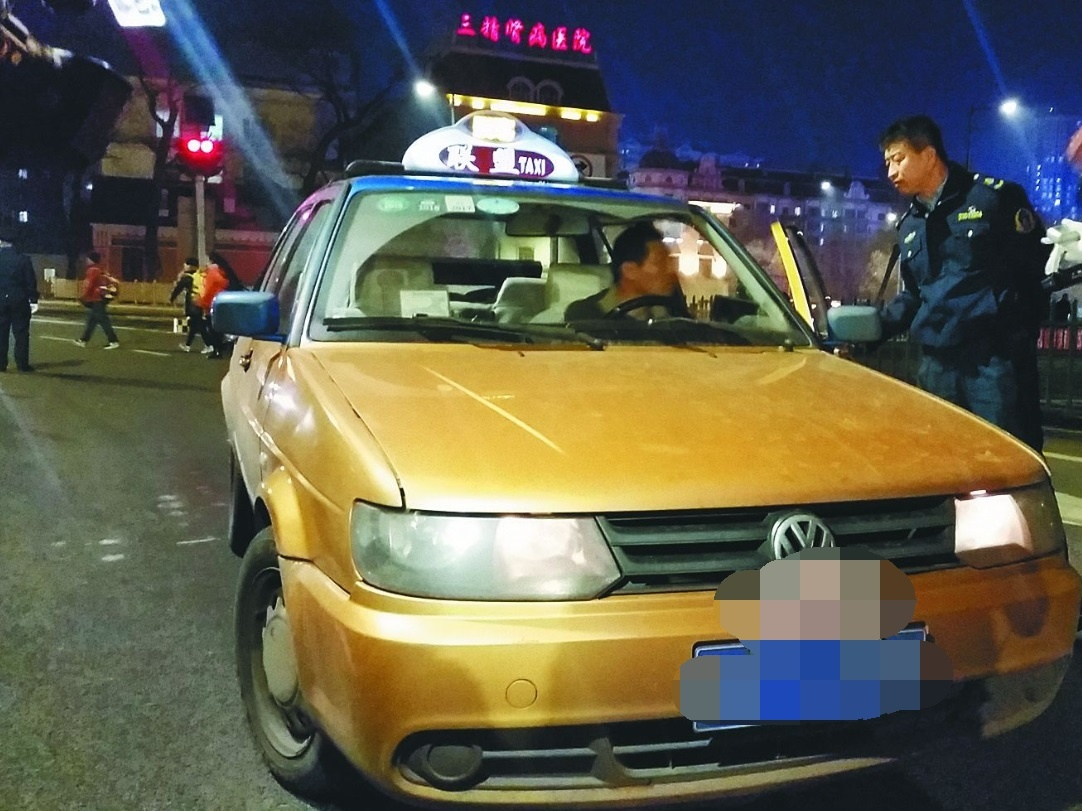taxi: (195, 116, 1081, 801)
